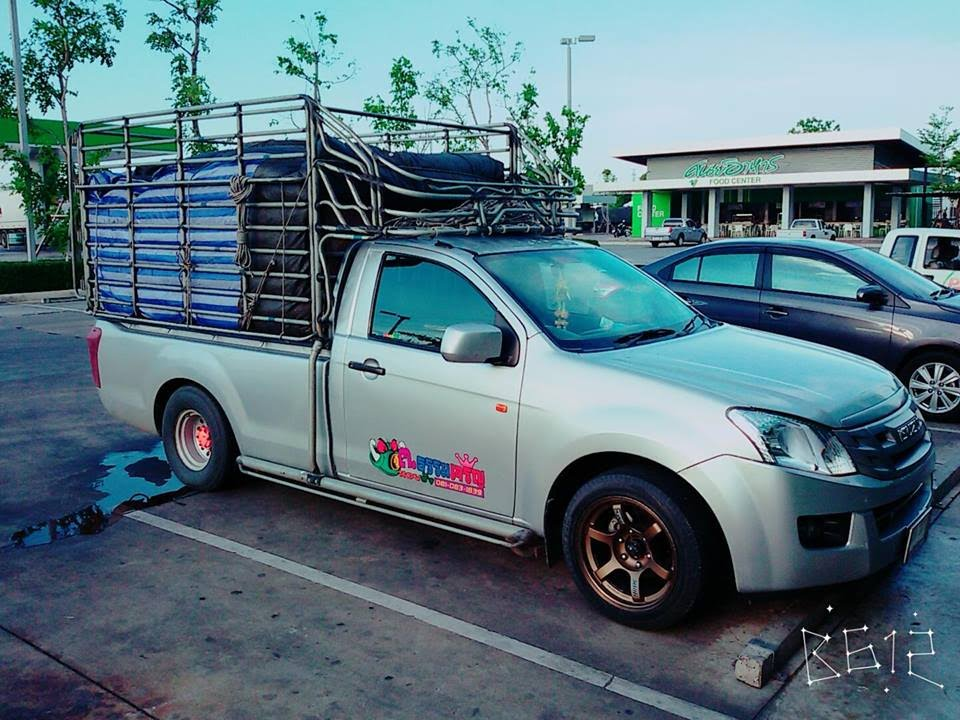pickup: (84, 231, 933, 619)
